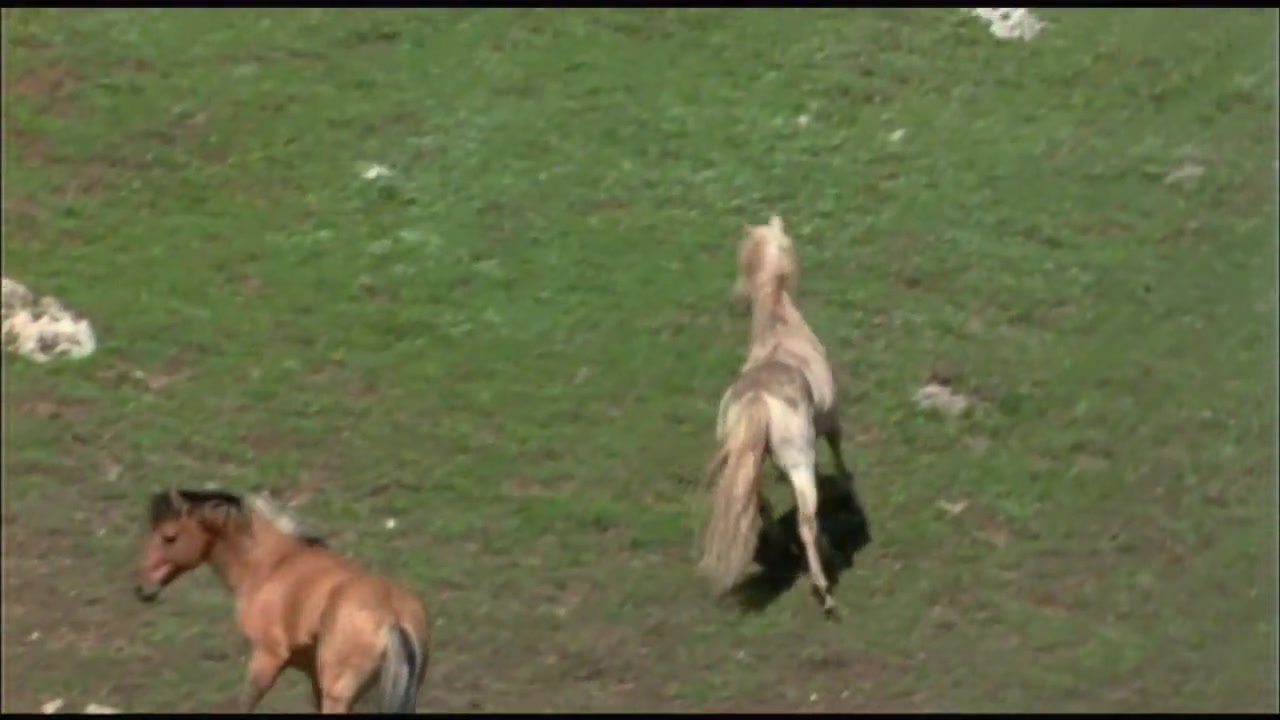horse: (135, 488, 433, 714)
